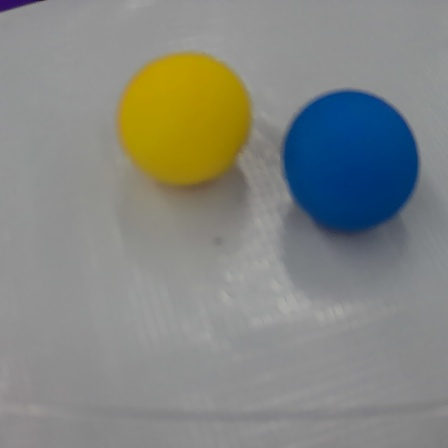blue: (286, 86, 424, 235)
yellow: (120, 55, 249, 189)
